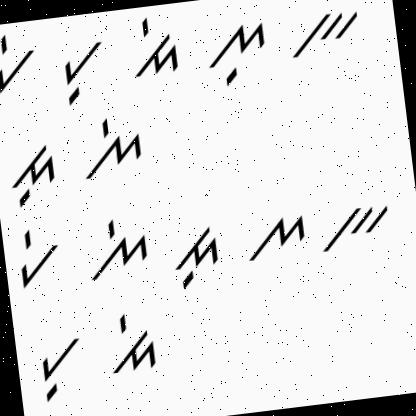de: (121, 10, 189, 84), (104, 310, 160, 380)
du: (159, 219, 226, 294), (0, 138, 65, 213)
na: (239, 203, 312, 267)
ne: (80, 210, 155, 286), (72, 111, 146, 181)
nu: (199, 13, 277, 89)
pe: (8, 224, 67, 291), (0, 29, 42, 99)
pu: (28, 331, 90, 405), (53, 37, 110, 108)
